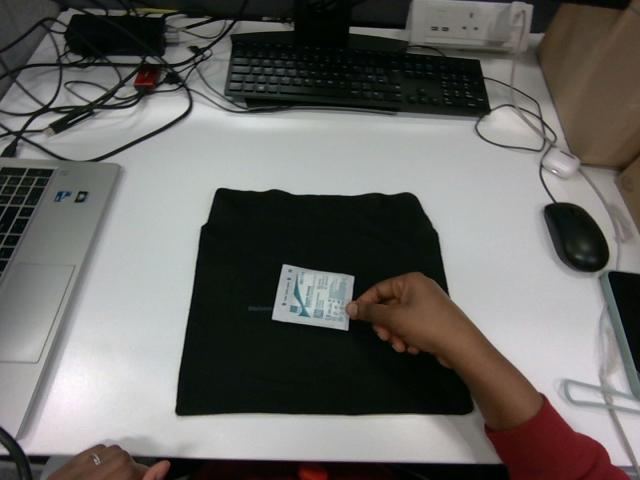gauze: (274, 264, 353, 330)
